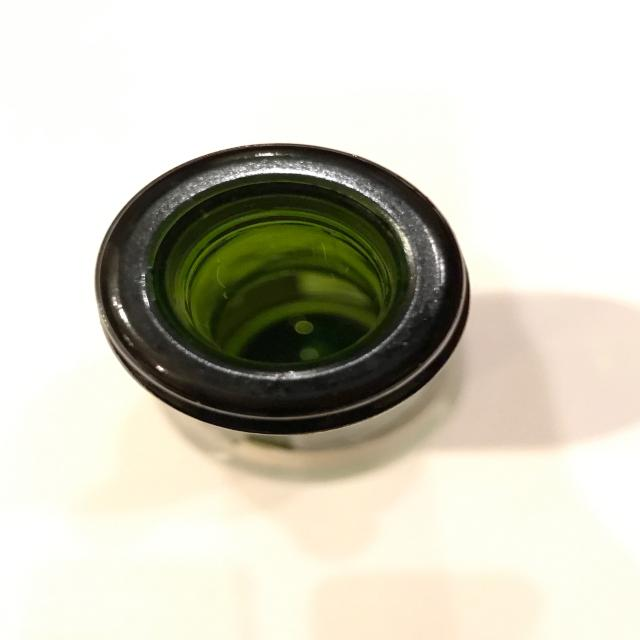glass: (94, 141, 472, 448)
